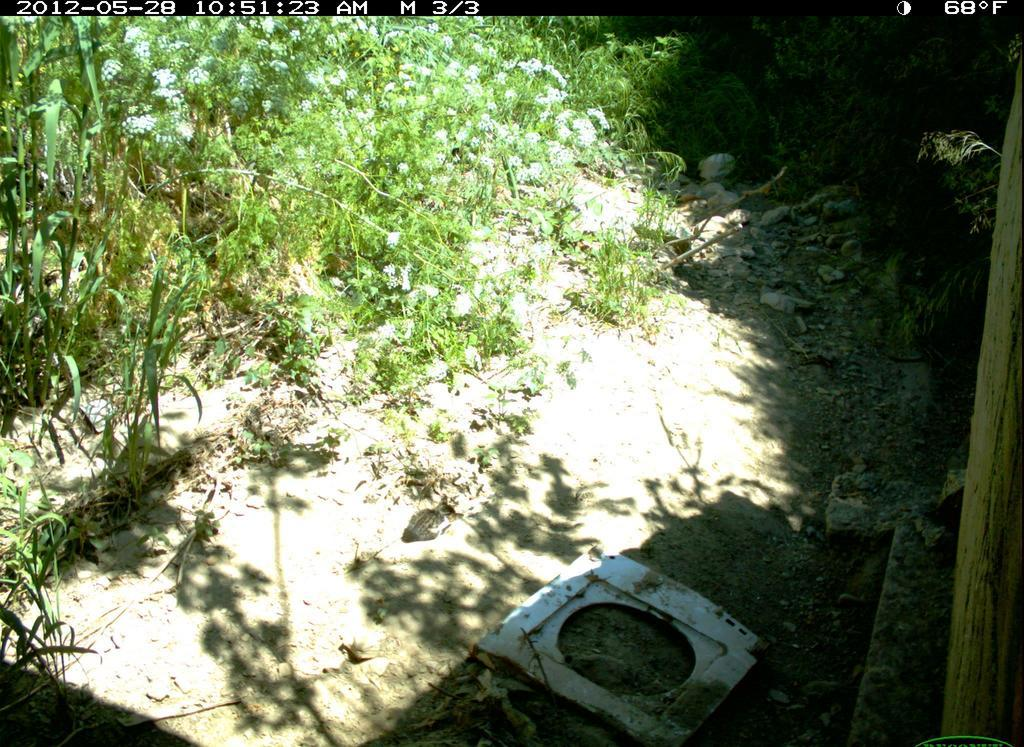cat: (404, 493, 461, 549)
